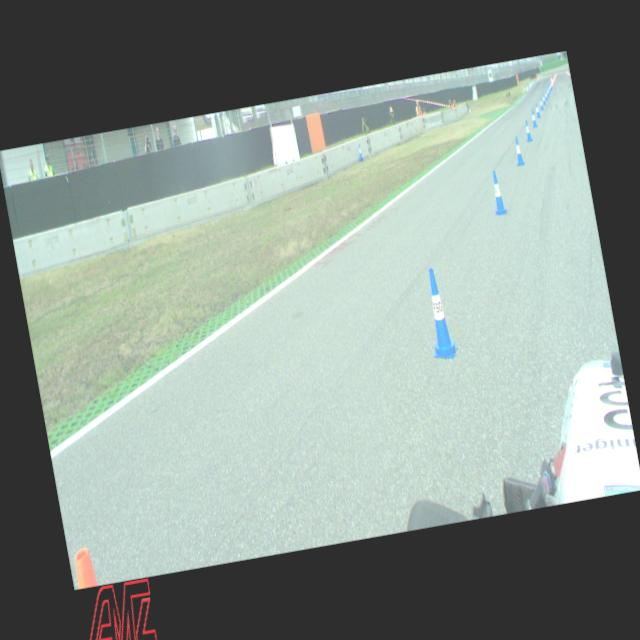blue_cone: (418, 266, 458, 361), (488, 170, 506, 213), (512, 136, 524, 165), (523, 119, 532, 141), (530, 108, 536, 126), (538, 96, 544, 110), (534, 103, 540, 117), (358, 144, 362, 160), (542, 94, 546, 105), (544, 91, 548, 100), (546, 87, 549, 96), (547, 86, 550, 94), (550, 82, 552, 90), (548, 85, 550, 92), (550, 82, 552, 88)
large_orange_cone: (550, 76, 553, 86)
unknown_cone: (67, 544, 102, 588)
